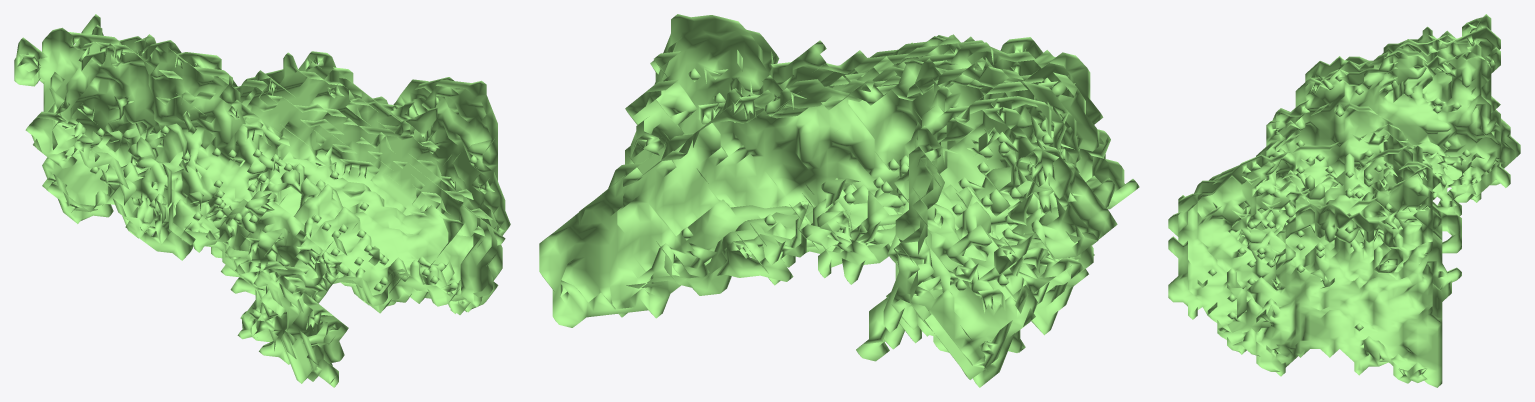
File: osteocyte_154.glb
The picture shows the model from 3 angles, left to right: view 1: azimuth 30°, elevation 25°; view 2: azimuth 150°, elevation 25°; view 3: azimuth 270°, elevation 25°; orthographic projection. The views are drawn at different scales.
Visible parts, largest first — view 1: osteocyte_154; view 2: osteocyte_154; view 3: osteocyte_154.
Boxes of the visible parts, x1,y1,x2,y2 form: osteocyte_154: (14,14,510,387); osteocyte_154: (539,14,1139,387); osteocyte_154: (1168,14,1520,387).
Bounding box in the file's own units: 20.7 × 13 × 17.33.
